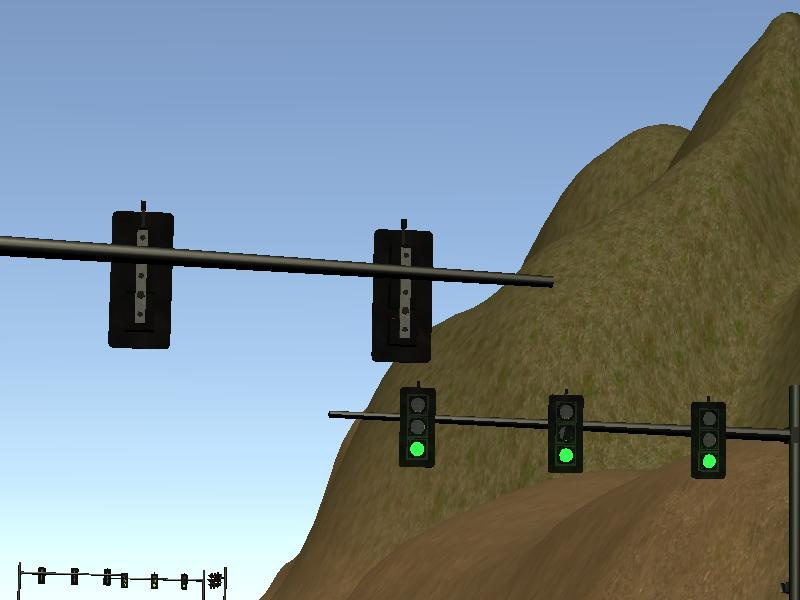Green: (400, 387, 436, 468), (549, 395, 582, 474), (692, 402, 725, 480), (120, 572, 128, 587), (151, 574, 158, 589), (181, 572, 186, 589)
